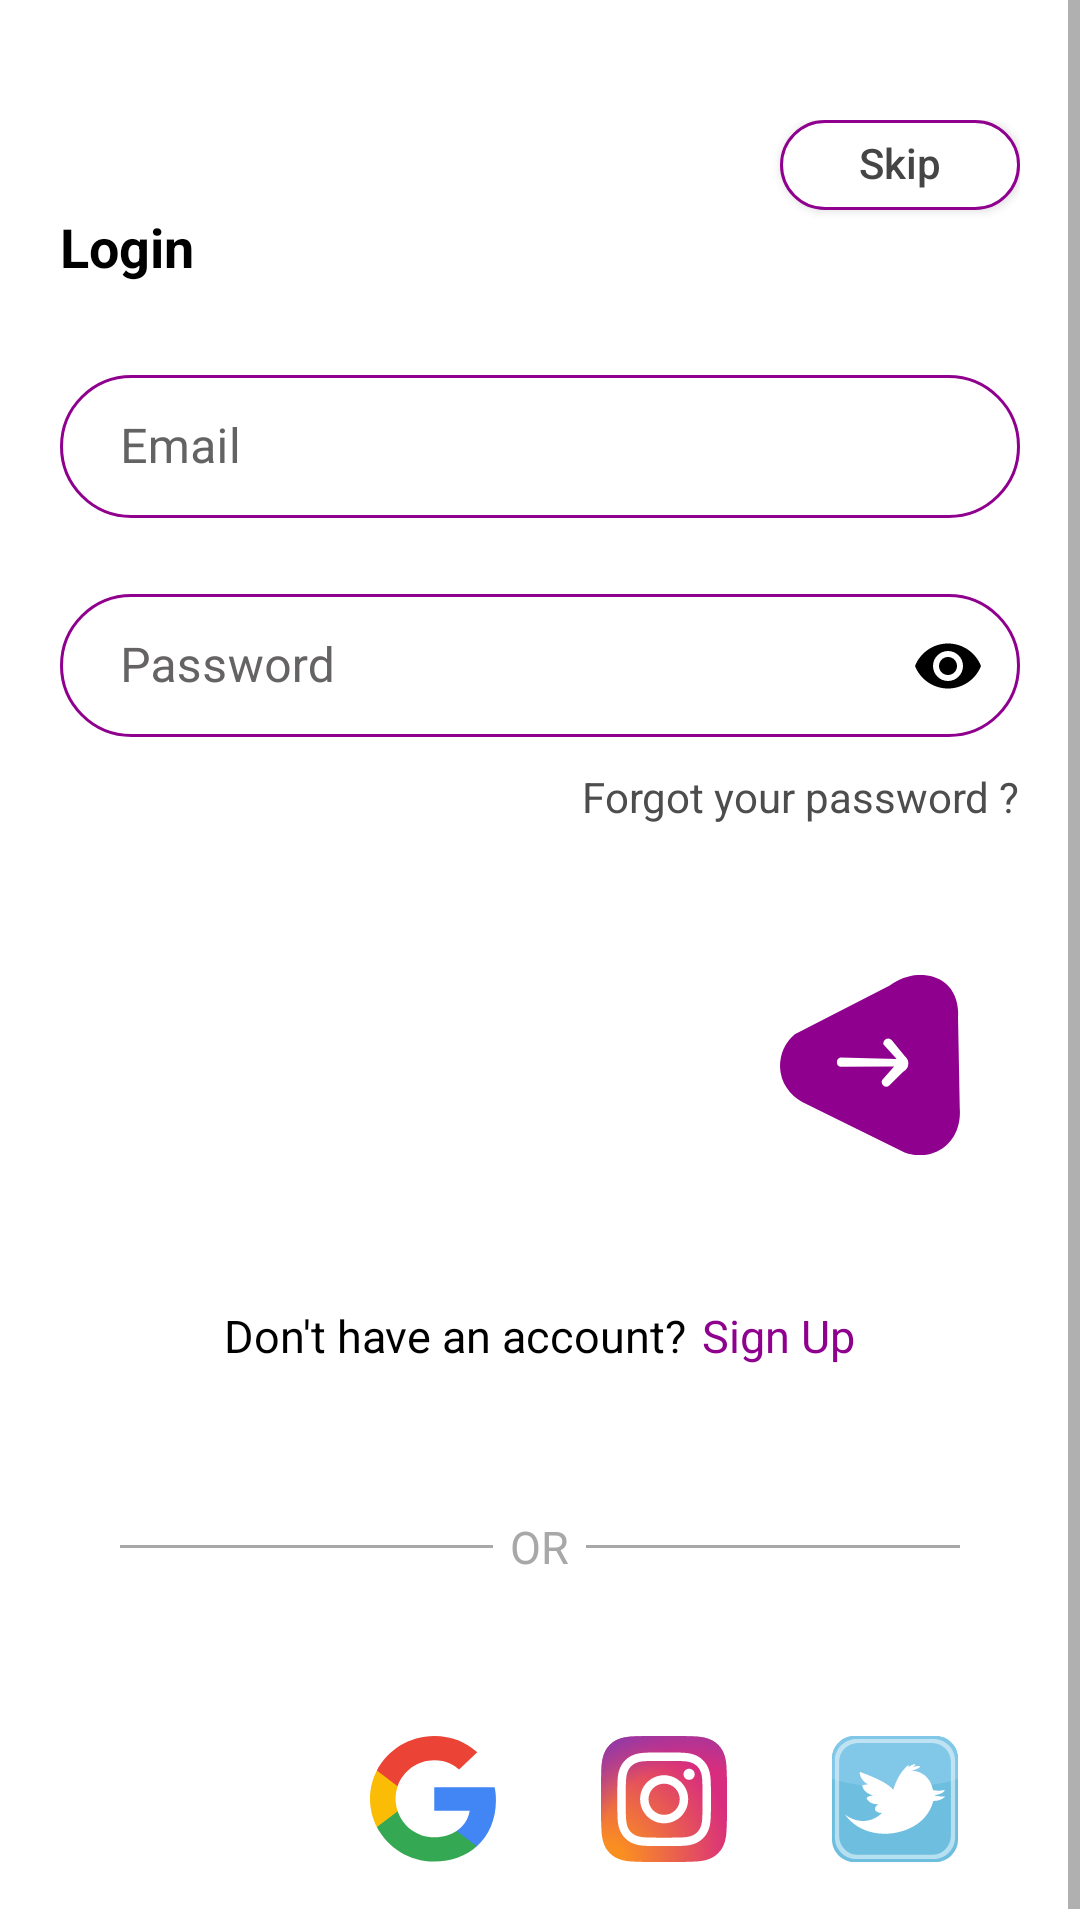

Icons on this 1080 × 1920 Android screen, each with its box as (x1, y1, x2, y2):
loginbutton: (780, 975, 960, 1155)
